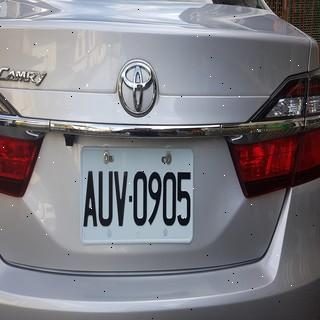license: (75, 161, 201, 247)
